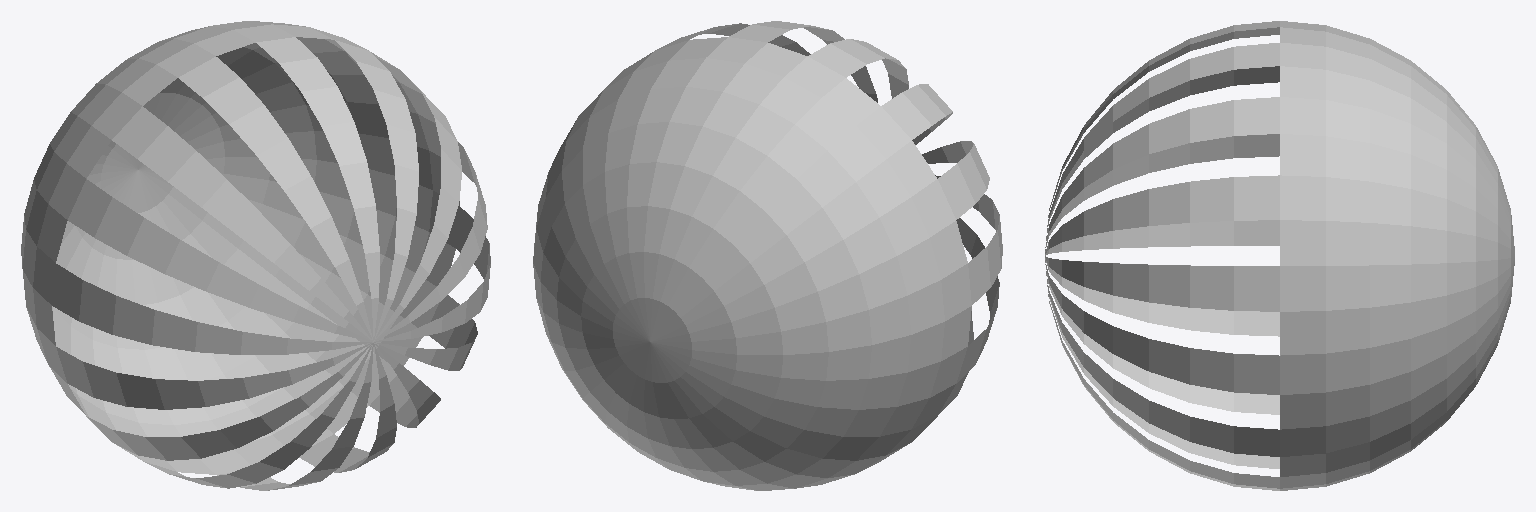
Rendered from modified_sphere.obj.
3 renders of one model, left to right at view 1: azimuth 30°, elevation 25°; view 2: azimuth 150°, elevation 25°; view 3: azimuth 270°, elevation 25°, orthographic.
Parts seen in each view (by area): view 1: Sphere; view 2: Sphere; view 3: Sphere.
Boxes of the visible parts, x1=… form: Sphere: x1=21, y1=21, x2=490, y2=490; Sphere: x1=533, y1=21, x2=1002, y2=490; Sphere: x1=1045, y1=21, x2=1514, y2=490.
Bounding box in the file's own units: 1 × 1 × 1.